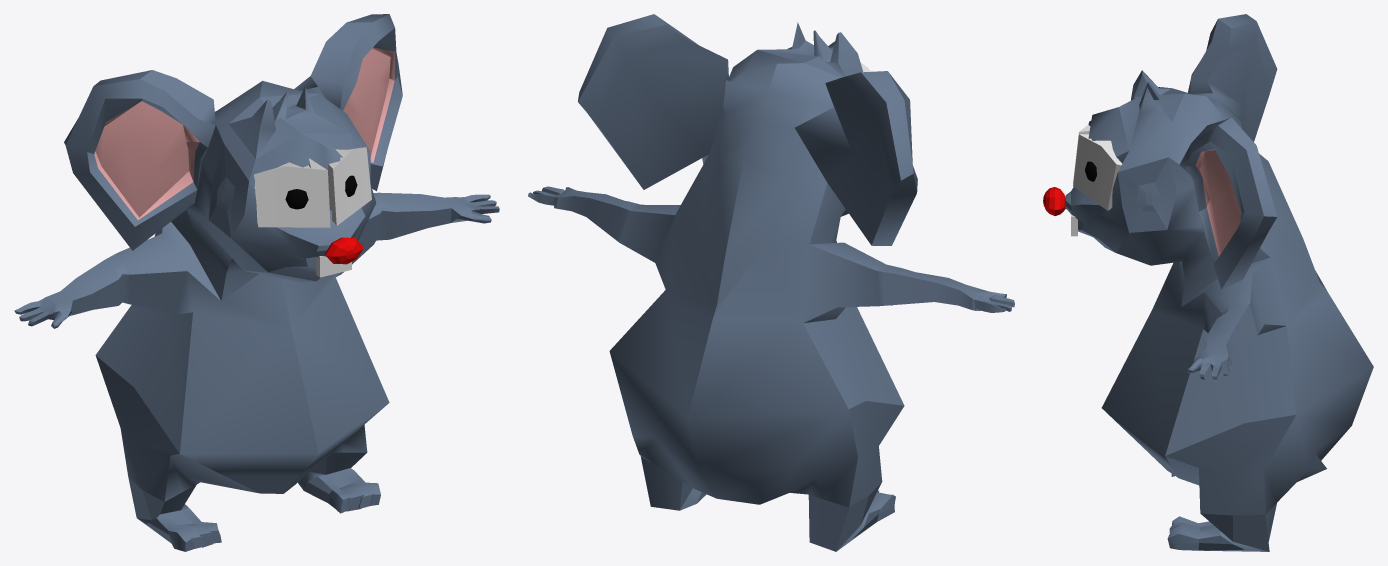
File: P_Mouse.fbx
The picture shows the model from 3 angles, left to right: view 1: azimuth 30°, elevation 25°; view 2: azimuth 150°, elevation 25°; view 3: azimuth 270°, elevation 25°; orthographic projection. The views are drawn at different scales.
Parts seen in each view (by area): view 1: pSphere5; view 2: pSphere5; view 3: pSphere5.
Boxes of the visible parts, left/top/right/bottom form: pSphere5: left=14, top=14, right=499, bottom=551; pSphere5: left=528, top=14, right=1014, bottom=551; pSphere5: left=1043, top=14, right=1373, bottom=551.
Size of the model in its own units: 42.38 by 39.59 by 27.13.
